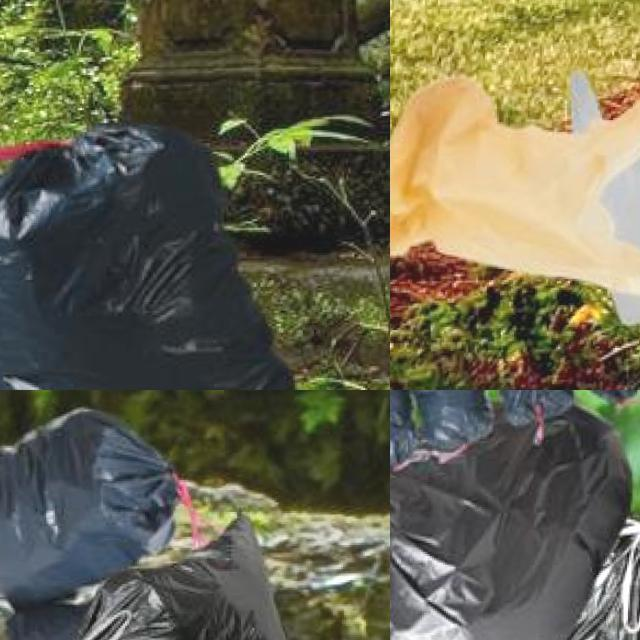waste: (0, 117, 344, 390), (390, 426, 640, 640), (0, 401, 185, 596), (77, 512, 308, 640), (457, 516, 640, 640), (560, 44, 640, 314), (403, 390, 489, 454), (487, 390, 571, 429), (390, 390, 413, 471)
